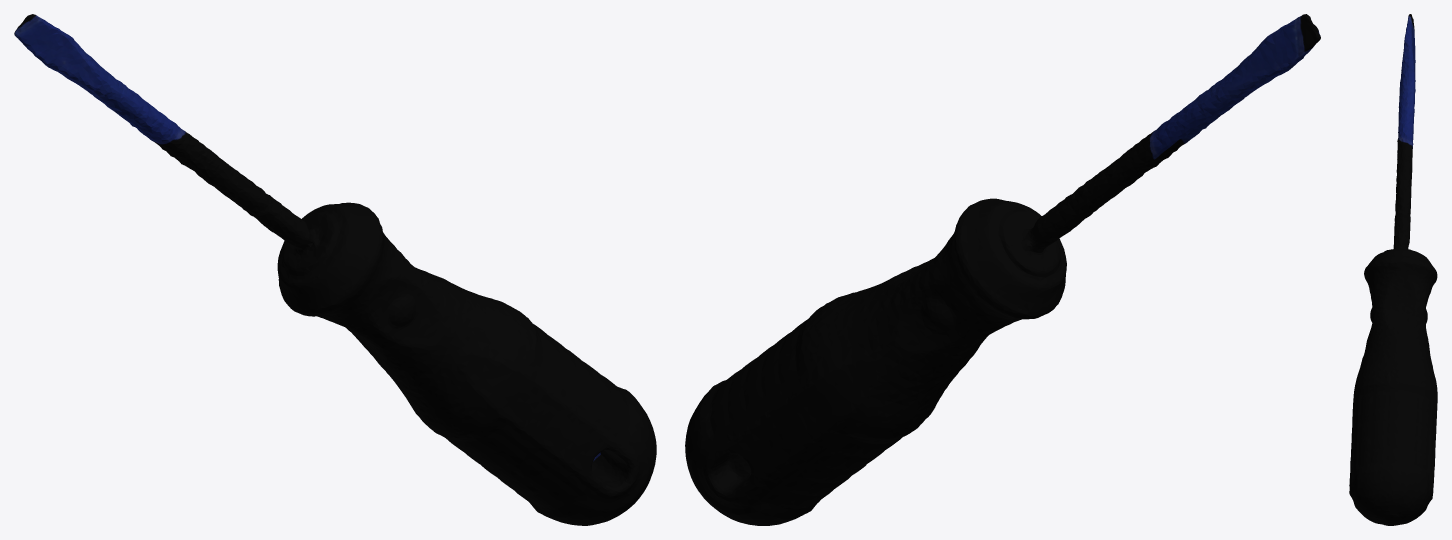
3 renders of one model, left to right at view 1: azimuth 30°, elevation 25°; view 2: azimuth 150°, elevation 25°; view 3: azimuth 270°, elevation 25°, orthographic. The views are drawn at different scales.
Visible parts, largest first — view 1: node; view 2: node; view 3: node.
Part boxes in pixels (left/top/right/bottom): node: left=14, top=14, right=656, bottom=525; node: left=685, top=14, right=1320, bottom=525; node: left=1349, top=14, right=1437, bottom=525.
Size of the model in its own units: 0.1619 by 0.1569 by 0.035.
